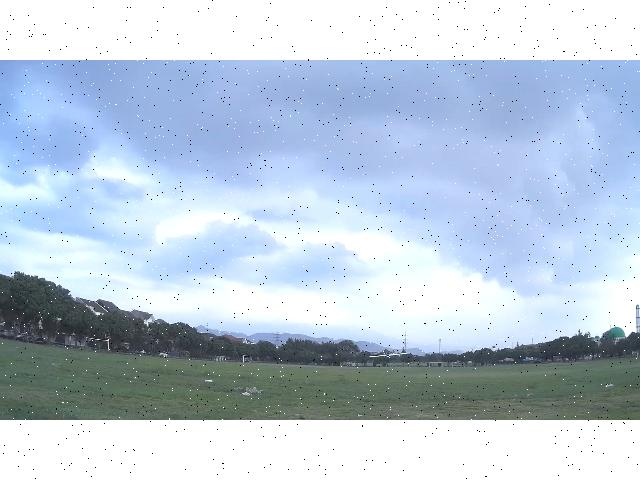Anti-Drone: (368, 353, 408, 357)
